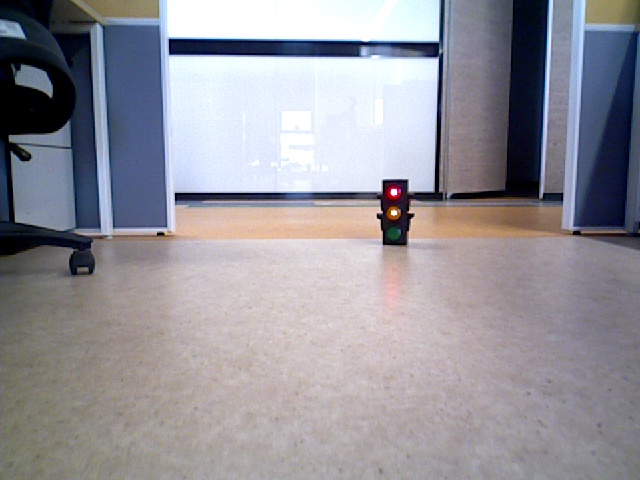red: (383, 180, 404, 242)
